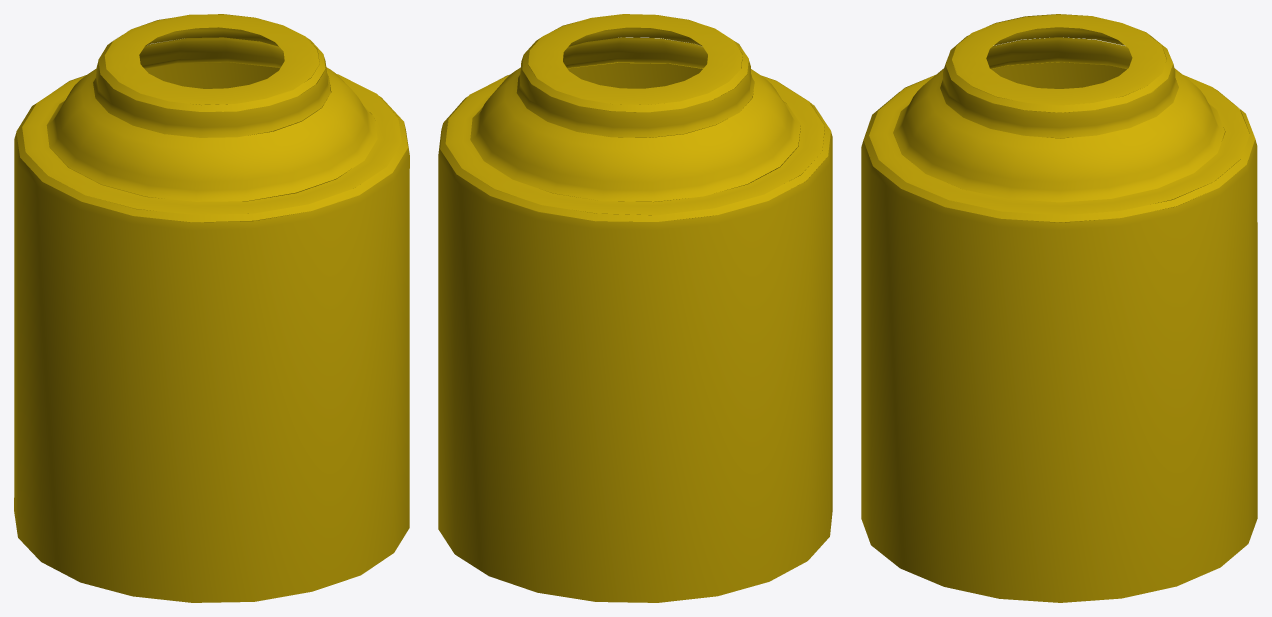
The model's file is original-3.obj.
3 views of the same model, side by side, from view 1: azimuth 30°, elevation 25°; view 2: azimuth 150°, elevation 25°; view 3: azimuth 270°, elevation 25° (orthographic).
Visible parts, largest first — view 1: #ID21; view 2: #ID21; view 3: #ID21.
Part boxes in pixels (x1,y1,x2,y2): #ID21: [14, 14, 409, 602]; #ID21: [438, 14, 832, 602]; #ID21: [861, 14, 1257, 602].
Size of the model in its own units: 0.1091 by 0.1398 by 0.1089.
